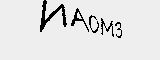А: (69, 5, 91, 35)
З: (114, 19, 124, 40)
И: (38, 1, 69, 33)
М: (100, 15, 115, 39)
О: (87, 11, 100, 37)
